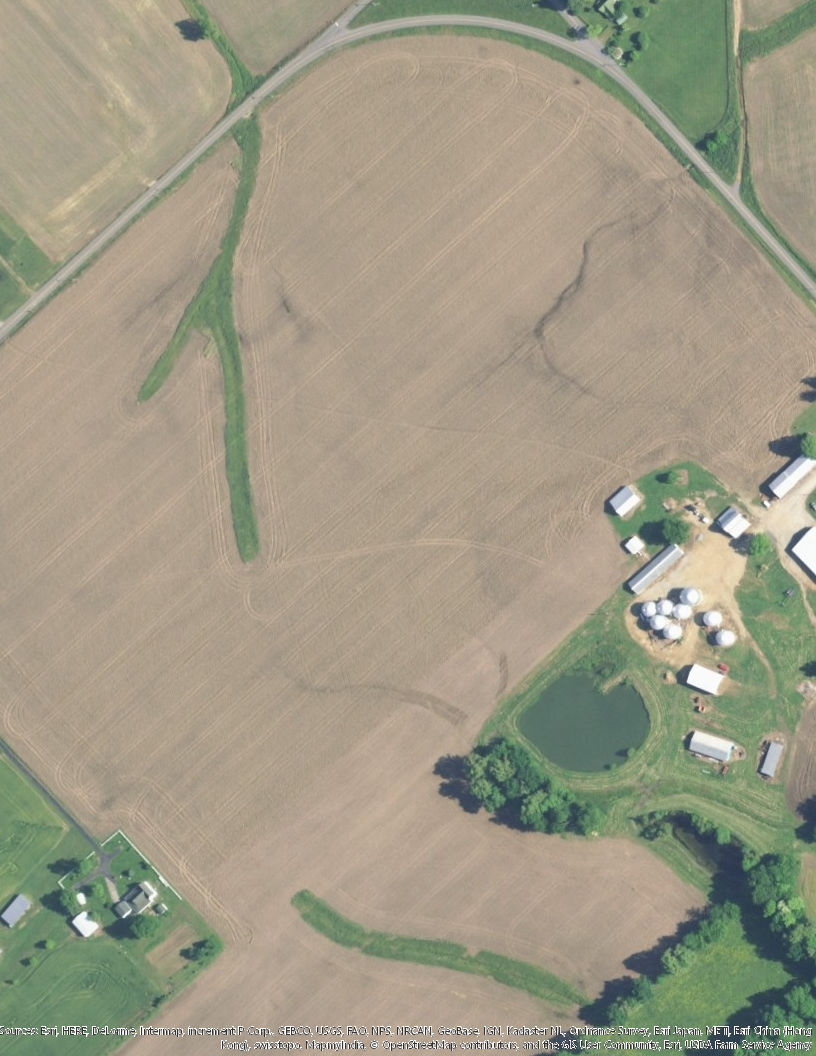cafo: (626, 538, 685, 594), (763, 450, 814, 503)
